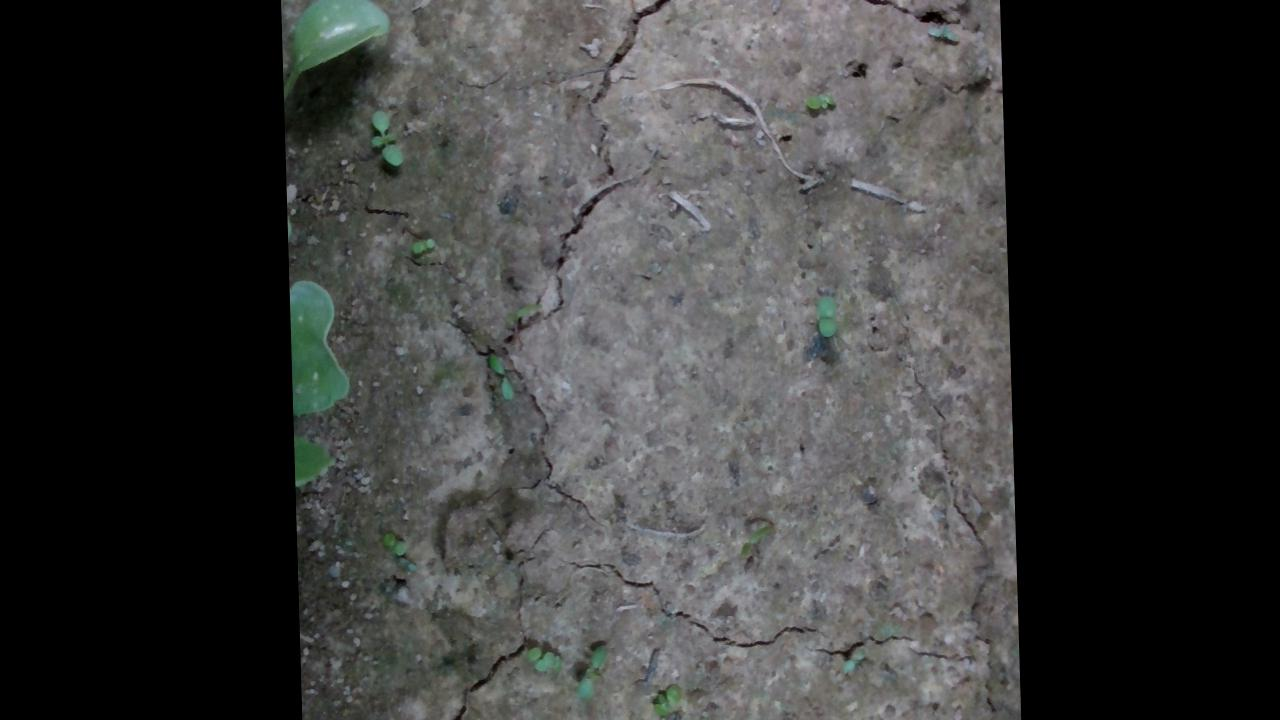weed: (366, 107, 404, 166), (484, 350, 514, 402), (814, 293, 838, 338), (924, 19, 963, 42), (804, 88, 838, 110), (378, 530, 406, 554), (407, 235, 438, 254)
